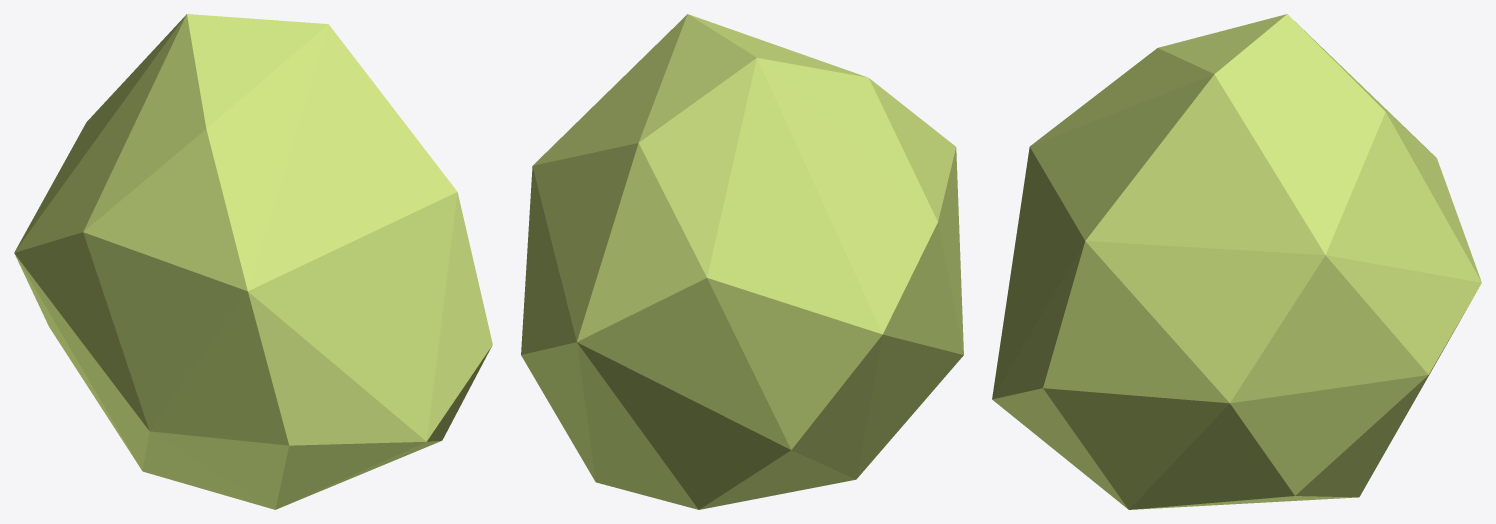
Rendered from Bush_g_m_03.fbx.
The picture shows the model from 3 angles, left to right: view 1: azimuth 30°, elevation 25°; view 2: azimuth 150°, elevation 25°; view 3: azimuth 270°, elevation 25°; orthographic projection.
Visible parts, largest first — view 1: Bush_g_m_03; view 2: Bush_g_m_03; view 3: Bush_g_m_03.
Part boxes in pixels (left/top/right/bottom): Bush_g_m_03: left=14, top=14, right=492, bottom=509; Bush_g_m_03: left=521, top=14, right=963, bottom=509; Bush_g_m_03: left=992, top=14, right=1481, bottom=509.
Bounding box in the file's own units: 127 × 143 × 136.
